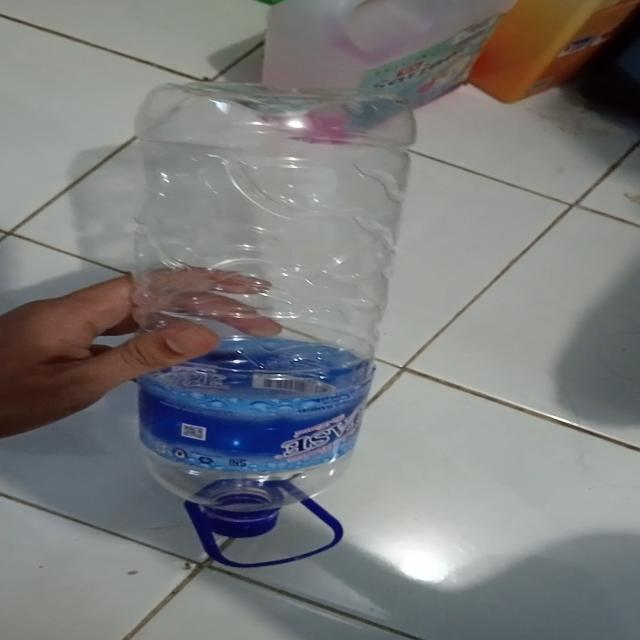Botol bekas: (126, 80, 416, 530)
